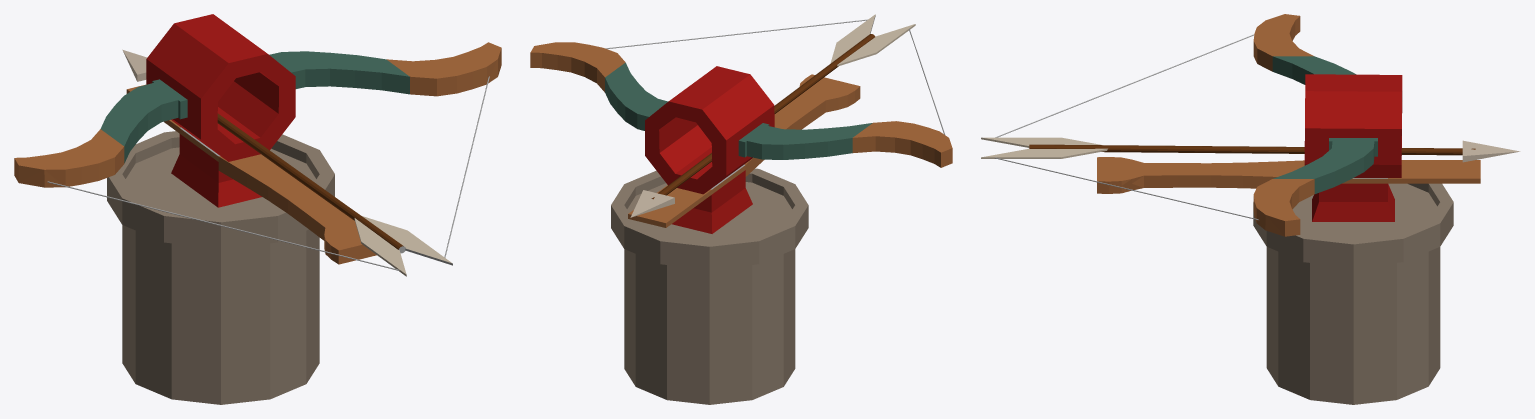
Rendered from archer turret textured.fbx.
3 views of the same model, side by side, from view 1: azimuth 30°, elevation 25°; view 2: azimuth 150°, elevation 25°; view 3: azimuth 270°, elevation 25° (orthographic). The views are drawn at different scales.
Visible parts, largest first — view 1: pCylinder1, pCylinder6; view 2: pCylinder1, pCylinder6; view 3: pCylinder1, pCylinder6.
Boxes of the visible parts, left/top/right/bottom form: pCylinder1: left=107, top=131, right=334, bottom=404; pCylinder6: left=14, top=14, right=501, bottom=276; pCylinder1: left=611, top=168, right=808, bottom=404; pCylinder6: left=530, top=14, right=952, bottom=233; pCylinder1: left=1253, top=183, right=1453, bottom=404; pCylinder6: left=981, top=14, right=1520, bottom=236.
Size of the model in its own units: 87.95 by 56.54 by 96.81.
